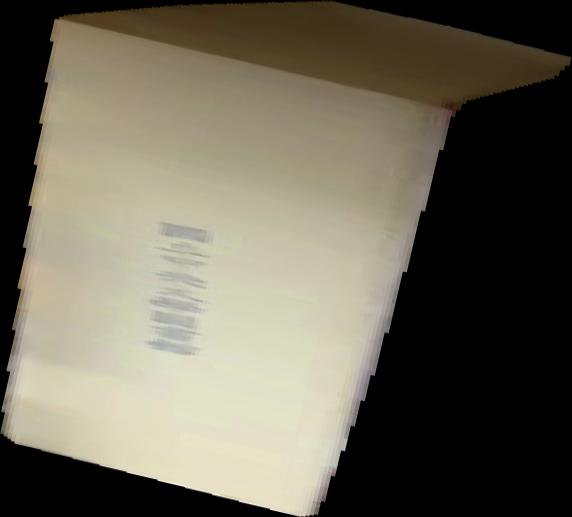backward: (1, 1, 572, 517)
